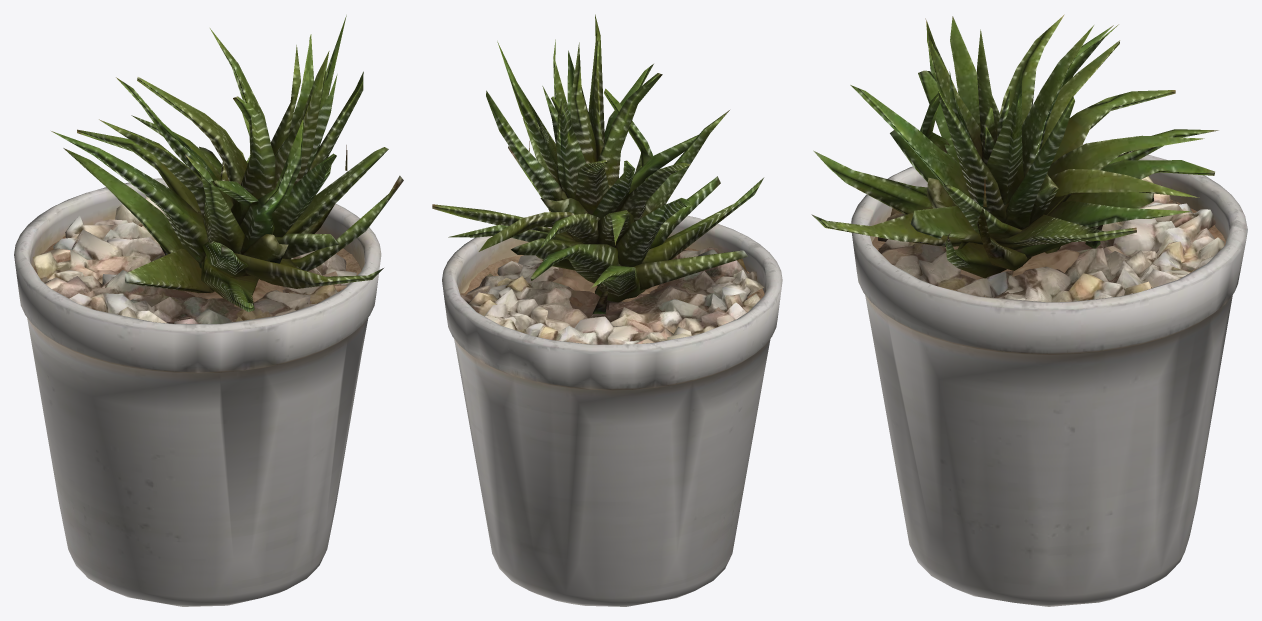
File: prop-plant4-f8402328.glb
3 renders of one model, left to right at view 1: azimuth 30°, elevation 25°; view 2: azimuth 150°, elevation 25°; view 3: azimuth 270°, elevation 25°, orthographic. The views are drawn at different scales.
Visible parts, largest first — view 1: potted_plant_04_pot, potted_plant_04_plant, potted_plant_04_ground, potted_plant_04_dirt; view 2: potted_plant_04_pot, potted_plant_04_plant, potted_plant_04_ground, potted_plant_04_dirt; view 3: potted_plant_04_pot, potted_plant_04_plant, potted_plant_04_ground, potted_plant_04_dirt.
Boxes of the visible parts, left/top/right/bottom form: potted_plant_04_pot: left=14, top=178, right=381, bottom=606; potted_plant_04_plant: left=51, top=15, right=403, bottom=311; potted_plant_04_ground: left=33, top=196, right=356, bottom=323; potted_plant_04_dirt: left=33, top=236, right=361, bottom=307; potted_plant_04_pot: left=442, top=215, right=782, bottom=606; potted_plant_04_plant: left=432, top=14, right=764, bottom=314; potted_plant_04_ground: left=460, top=247, right=764, bottom=344; potted_plant_04_dirt: left=460, top=247, right=764, bottom=307; potted_plant_04_pot: left=851, top=144, right=1247, bottom=606; potted_plant_04_plant: left=811, top=14, right=1218, bottom=278; potted_plant_04_ground: left=878, top=176, right=1224, bottom=302; potted_plant_04_dirt: left=872, top=199, right=1225, bottom=296.
Bounding box in the file's own units: 0.1672 × 0.2671 × 0.1843.
Materials: 1 (1 with a texture image).
